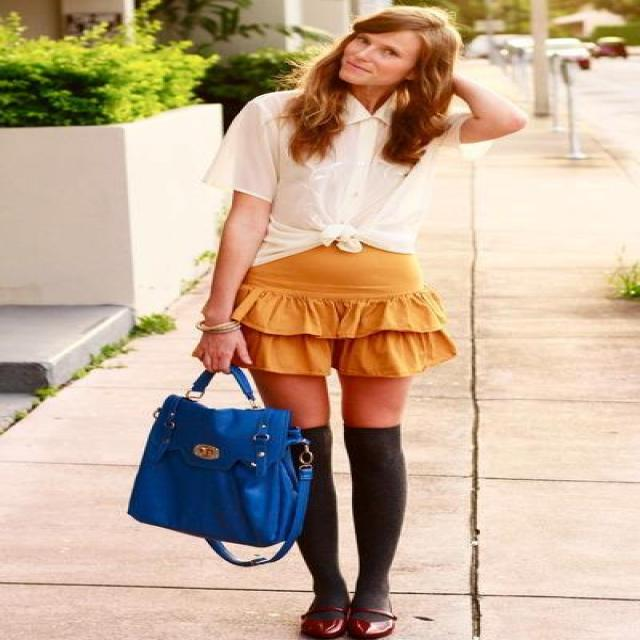bag: (126, 371, 325, 590)
shirt: (213, 90, 467, 264)
shoe: (299, 602, 397, 639)
shorts: (231, 243, 474, 382)
